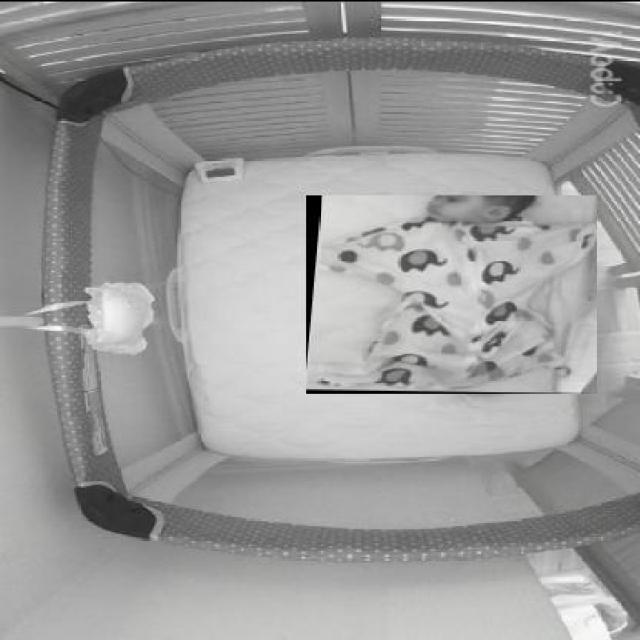child: (305, 193, 598, 393)
